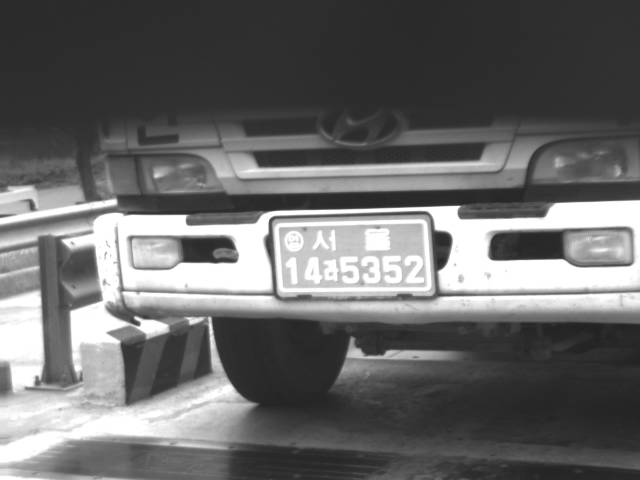car: (90, 76, 637, 405)
plate: (274, 221, 433, 294)
